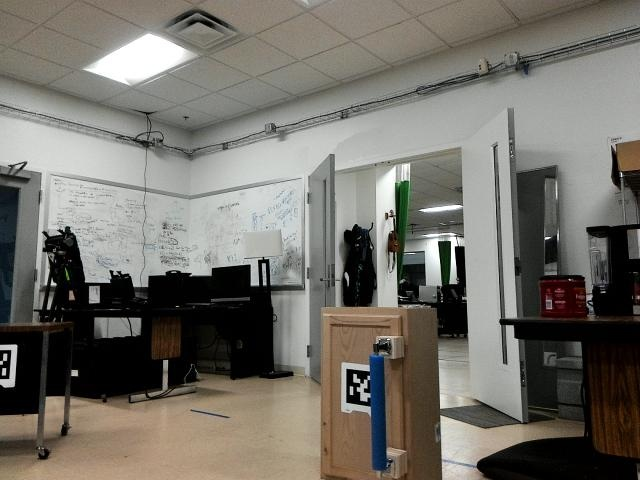noodle_handle: (366, 351, 391, 472)
